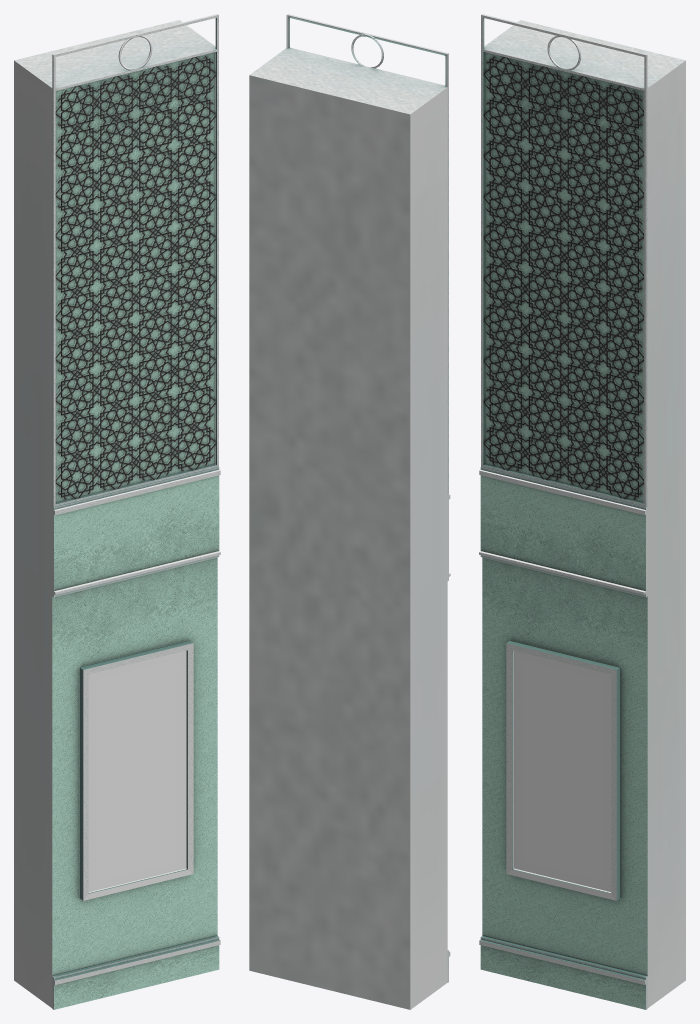
The model's file is midwall_2.glb.
The picture shows the model from 3 angles, left to right: view 1: azimuth 30°, elevation 25°; view 2: azimuth 150°, elevation 25°; view 3: azimuth 330°, elevation 25°; orthographic projection. The views are drawn at different scales.
Parts seen in each view (by area): view 1: midwall_2; view 2: midwall_2; view 3: midwall_2.
Boxes of the visible parts, left/top/right/bottom form: midwall_2: left=14, top=14, right=220, bottom=1009; midwall_2: left=249, top=14, right=450, bottom=1009; midwall_2: left=479, top=14, right=685, bottom=1009.
Bounding box in the file's own units: 1.5 × 8.26 × 0.6527.
Materials: 1 (1 with a texture image).
